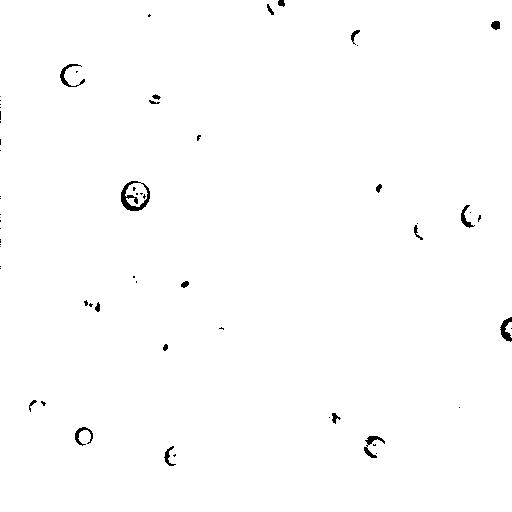micro-algae: (152, 30, 201, 81), (149, 330, 181, 365), (67, 307, 101, 339), (481, 8, 511, 44), (119, 179, 151, 212), (57, 61, 88, 88), (389, 207, 417, 233), (190, 127, 215, 155), (361, 433, 387, 459), (127, 264, 151, 292), (460, 202, 484, 228), (170, 271, 197, 294), (263, 0, 293, 19), (370, 177, 393, 201), (411, 219, 434, 242), (79, 293, 103, 313), (164, 445, 184, 467), (333, 404, 353, 425), (349, 27, 369, 47), (73, 425, 93, 445), (27, 398, 47, 417), (141, 9, 160, 28), (498, 316, 511, 343), (209, 0, 233, 11), (1, 115, 9, 137)
